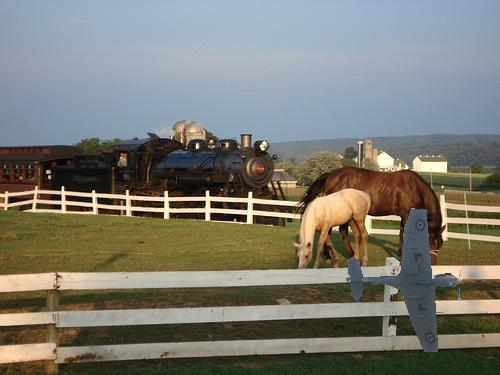tampered: (347, 209, 462, 352)
